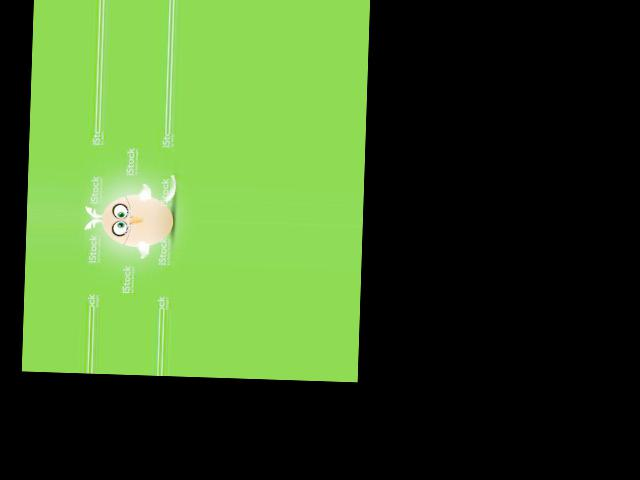egg: (101, 193, 174, 247)
